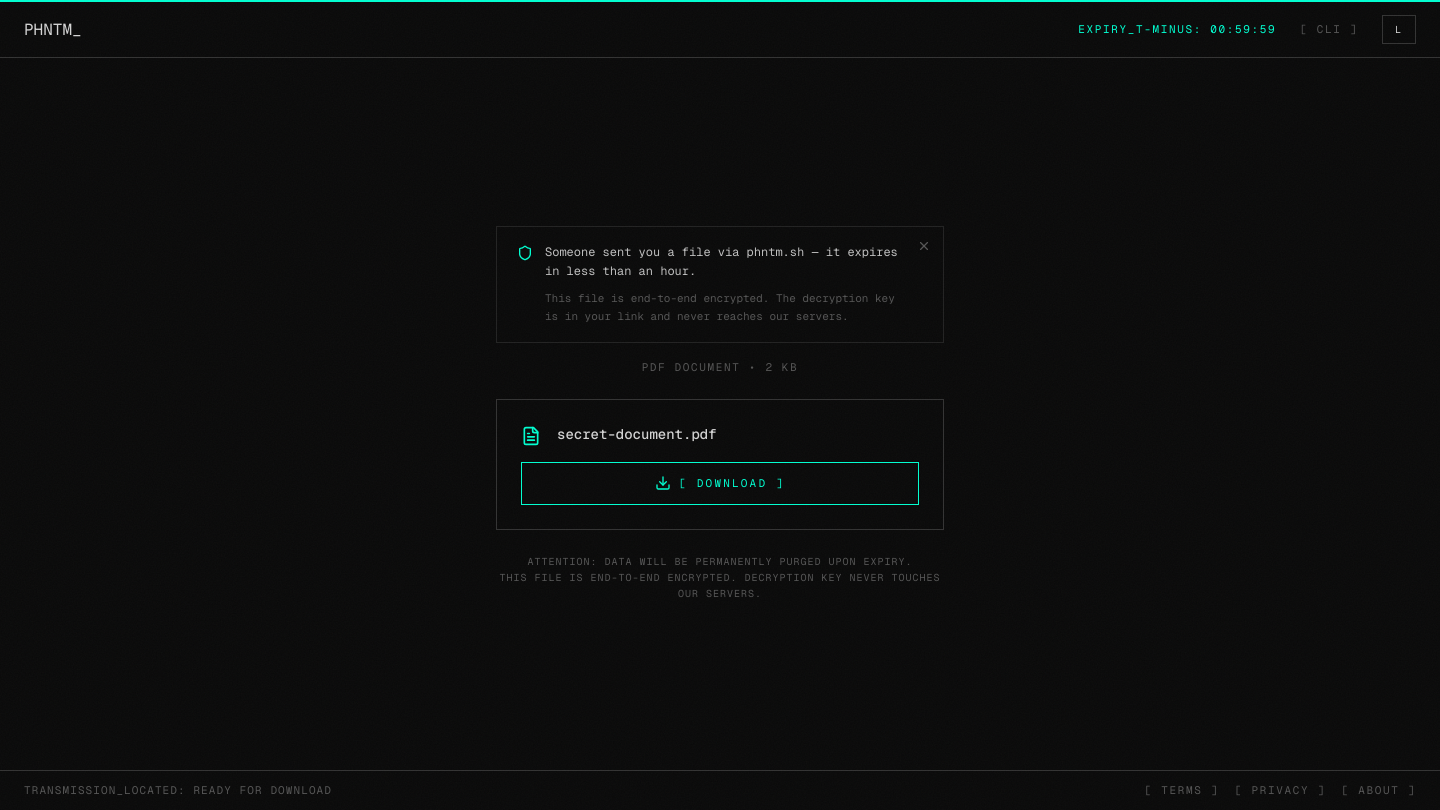
Test: DownloadPage › completes download and decrypt flow
Click the button "[ DOWNLOAD ]": (720, 483) top-left (521, 462), bottom-right (919, 504)
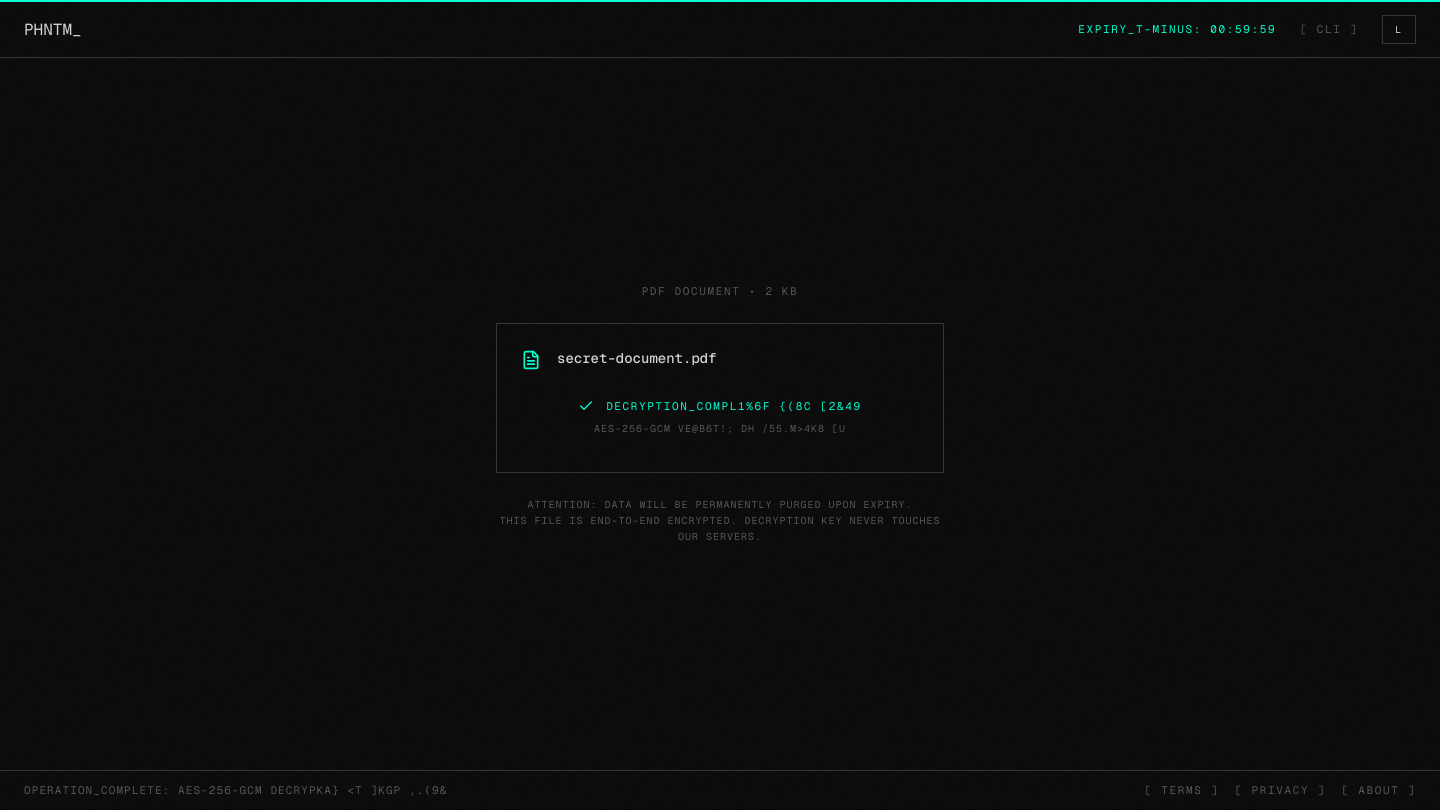
Now the text "DECRYPTION_COMPLETE" is shown, box top-left (606, 398), bottom-right (862, 415)
